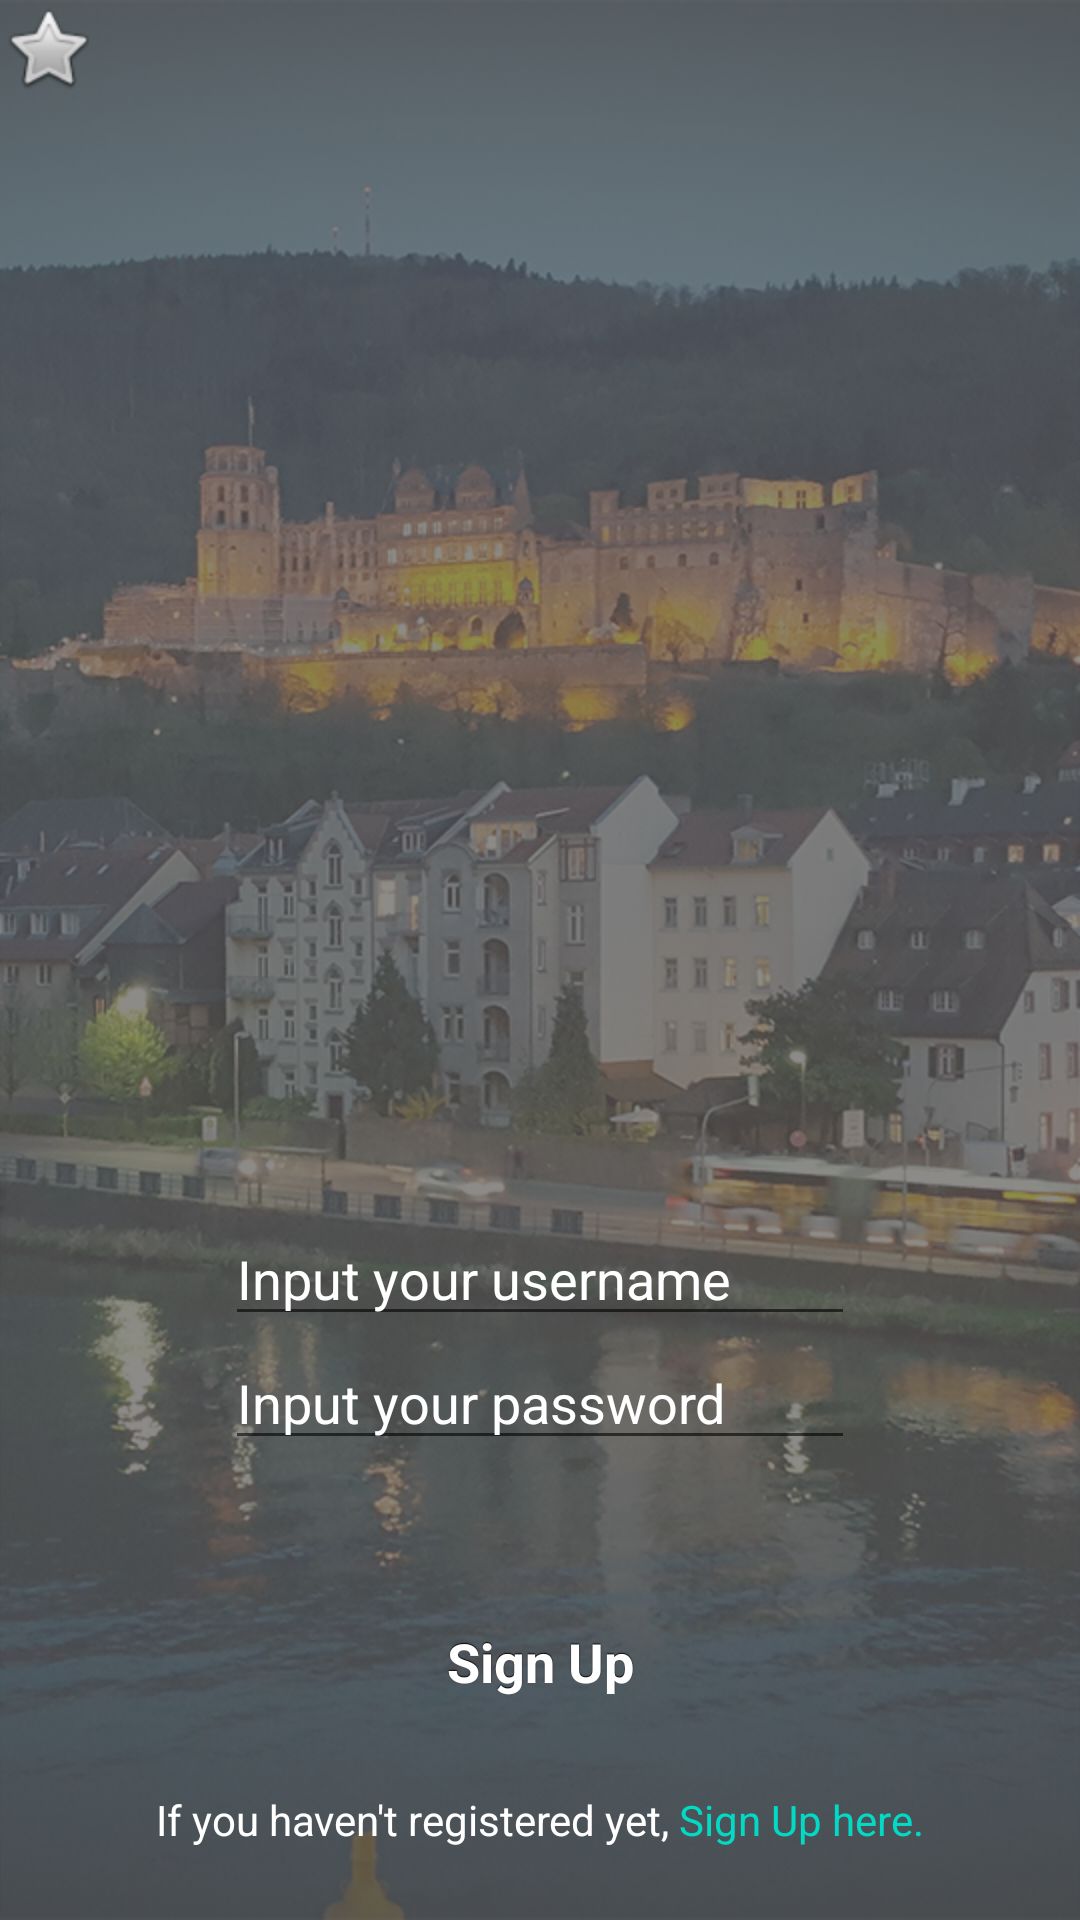

Icon bounding boxes for this 1080 x 1920 phone screenshot, format bbox=(x1, y1, x2, y2):
star: bbox=(12, 12, 86, 86)
